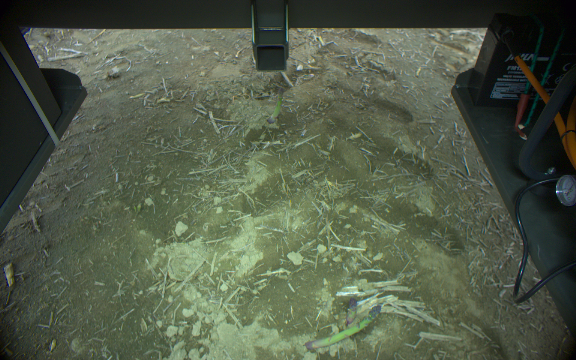aspa: (305, 305, 383, 351), (268, 87, 286, 126), (342, 294, 357, 327)
